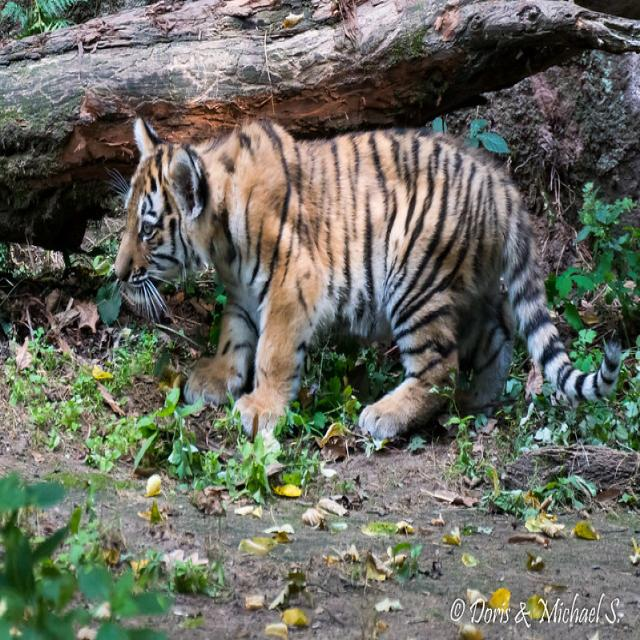Tiger: (108, 103, 582, 473)
